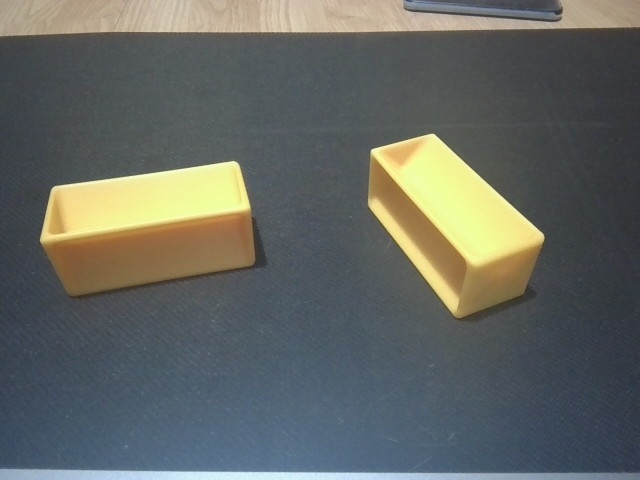YellowSample: (362, 129, 548, 324), (35, 157, 261, 300)
